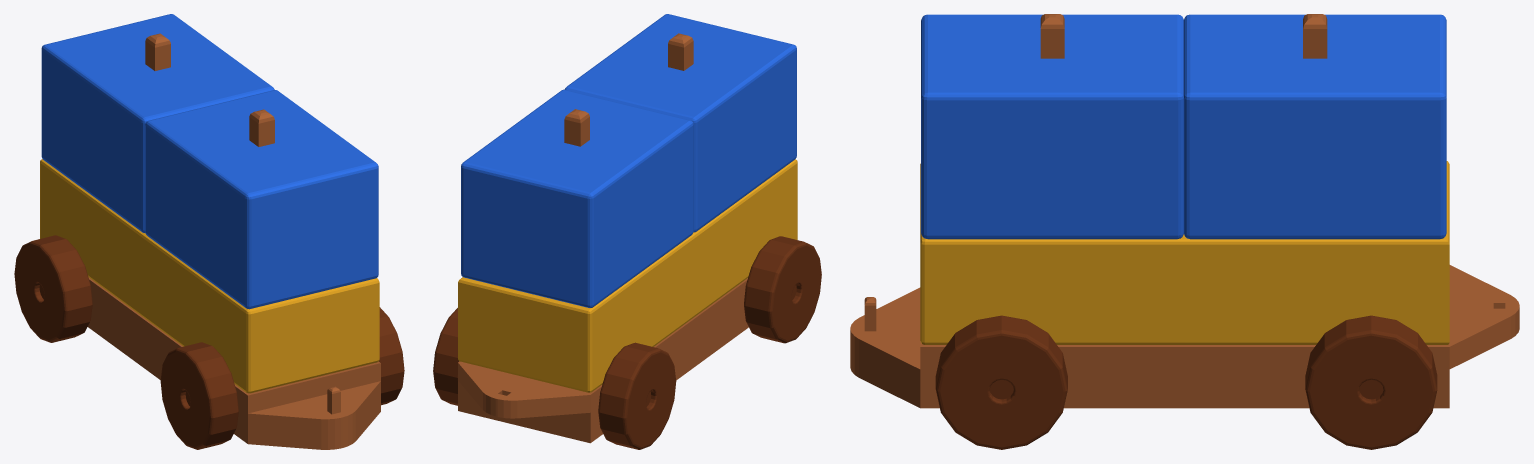
Rendered from Train compartment.fbx.
3 renders of one model, left to right at view 1: azimuth 30°, elevation 25°; view 2: azimuth 150°, elevation 25°; view 3: azimuth 270°, elevation 25°, orthographic. The views are drawn at different scales.
Parts seen in each view (by area): view 1: Train compartment; view 2: Train compartment; view 3: Train compartment.
Boxes of the visible parts, x1,y1,x2,y2 form: Train compartment: (14, 14, 404, 449); Train compartment: (433, 14, 821, 449); Train compartment: (850, 14, 1519, 449).
Bounding box in the file's own units: 39.55 × 57.69 × 93.3.
